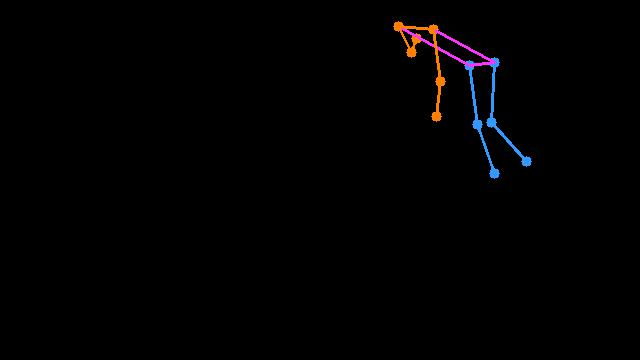normal: (365, 1, 542, 193)
